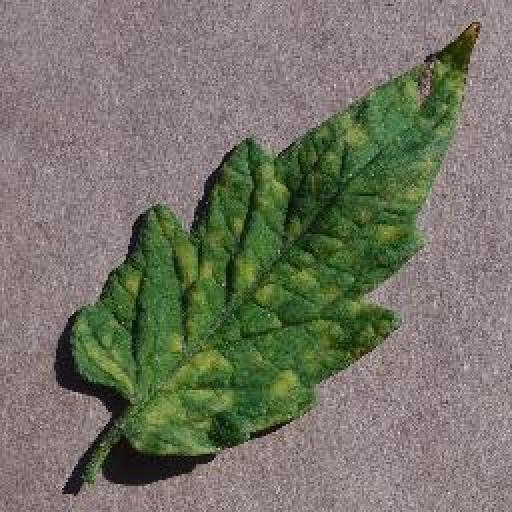disease_tomato: (72, 19, 482, 456)
